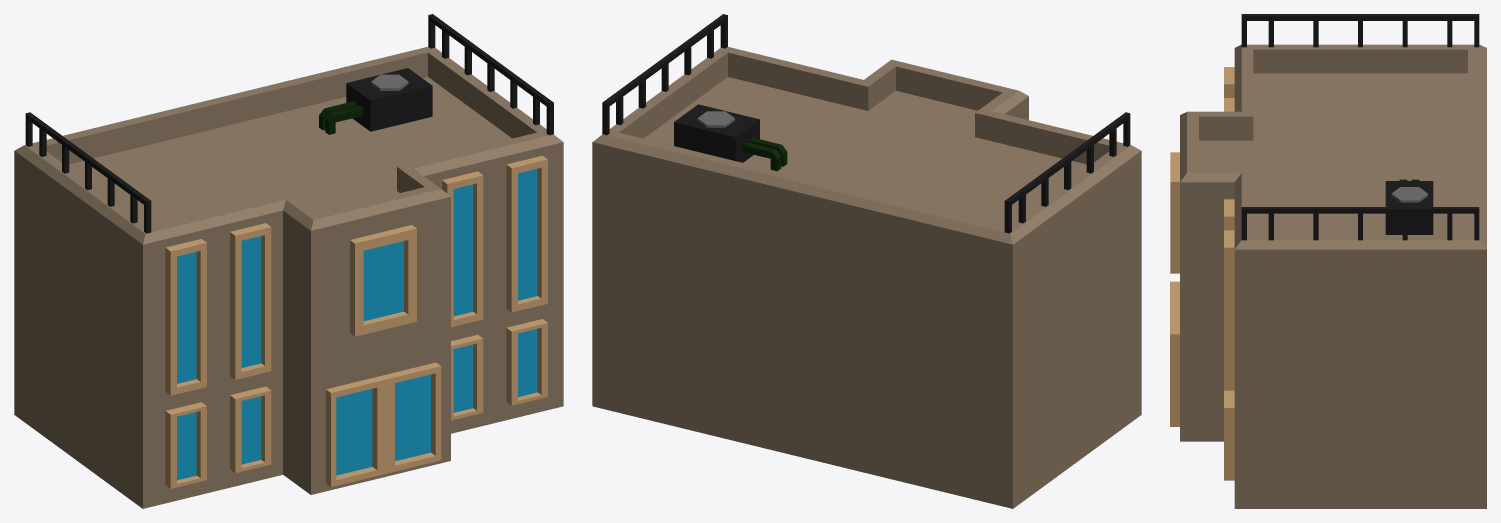
The picture shows the model from 3 angles, left to right: view 1: azimuth 30°, elevation 25°; view 2: azimuth 150°, elevation 25°; view 3: azimuth 270°, elevation 25°; orthographic projection.
Parts seen in each view (by area): view 1: Cube.033; view 2: Cube.033; view 3: Cube.033.
Part boxes in pixels (x1,y1,x2,y2): Cube.033: [14, 14, 563, 508]; Cube.033: [592, 14, 1141, 508]; Cube.033: [1170, 14, 1486, 508].
Size of the model in its own units: 1296 by 861 by 891.
